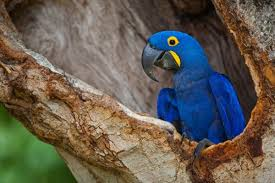guacamaya: (138, 26, 245, 136)
